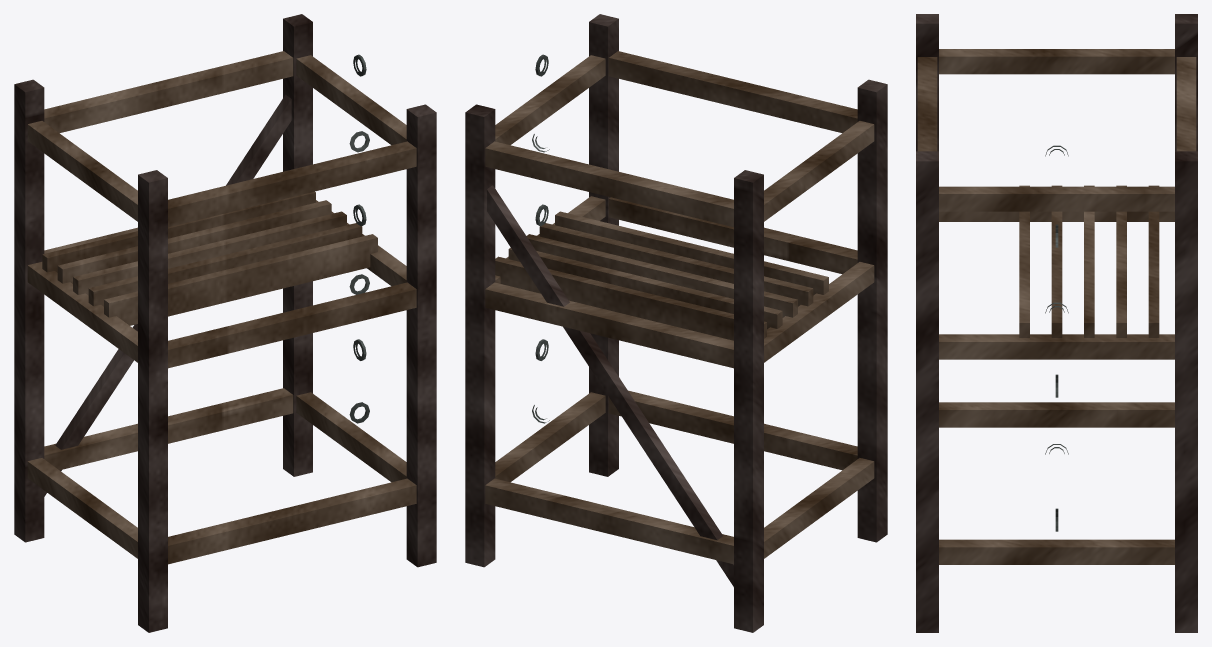
Rendered from 0430_scaffolding_05.glb.
3 renders of one model, left to right at view 1: azimuth 30°, elevation 25°; view 2: azimuth 150°, elevation 25°; view 3: azimuth 270°, elevation 25°, orthographic. The views are drawn at different scales.
Parts seen in each view (by area): view 1: wood, wood_dark, iron; view 2: wood, wood_dark, iron; view 3: wood, wood_dark, iron.
Boxes of the visible parts, bbox=[...] form: wood: bbox=[27, 51, 416, 564]; wood_dark: bbox=[14, 14, 436, 632]; iron: bbox=[349, 54, 369, 423]; wood: bbox=[485, 51, 874, 564]; wood_dark: bbox=[465, 14, 887, 632]; iron: bbox=[532, 54, 549, 423]; wood: bbox=[917, 49, 1196, 564]; wood_dark: bbox=[916, 14, 1197, 632]; iron: bbox=[1045, 145, 1068, 531].
Bounding box in the file's own units: 1.96 × 2.99 × 1.59.
3 materials, 3 textured.
